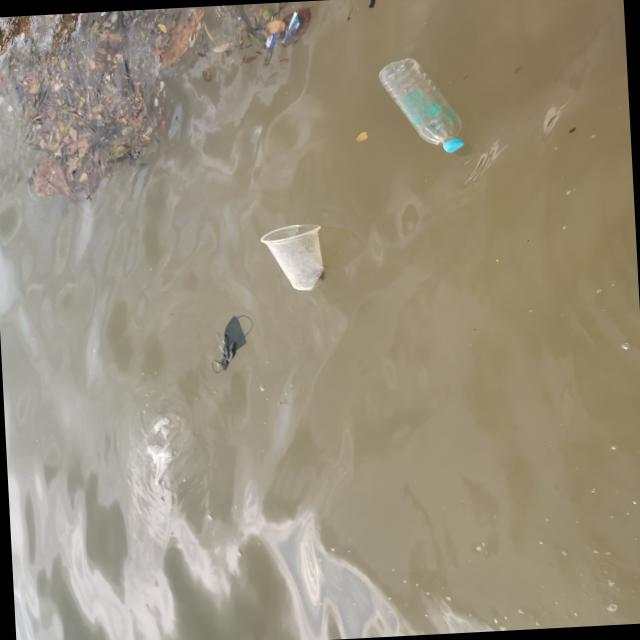plastic: (375, 54, 468, 158)
plastic bottle: (257, 221, 326, 292), (137, 412, 185, 482)
unknow: (207, 313, 256, 372)
